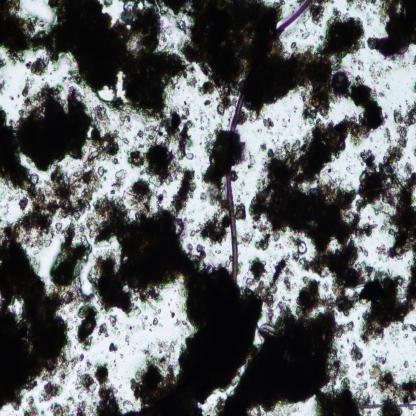Background material: (249, 115, 373, 313), (0, 78, 120, 242), (131, 265, 260, 415), (88, 177, 214, 322), (33, 0, 188, 117), (218, 282, 341, 416), (0, 218, 88, 405), (242, 6, 366, 124), (163, 0, 285, 96), (354, 100, 416, 213), (360, 260, 416, 350), (130, 114, 198, 185), (200, 126, 247, 200), (330, 70, 387, 131), (377, 172, 416, 260), (367, 0, 416, 60), (368, 354, 416, 415), (74, 362, 124, 416), (0, 0, 37, 65), (310, 378, 368, 415), (74, 299, 98, 350), (196, 210, 230, 246), (169, 169, 197, 212), (241, 222, 272, 250), (268, 257, 294, 290), (308, 0, 333, 26), (245, 258, 268, 284), (40, 380, 65, 403), (48, 396, 76, 416), (289, 233, 308, 261), (350, 344, 365, 378), (24, 57, 48, 76), (108, 168, 127, 188), (22, 395, 39, 415), (20, 76, 35, 98), (345, 0, 370, 10), (235, 204, 246, 222), (97, 322, 109, 338), (203, 96, 213, 114), (107, 342, 120, 353), (0, 78, 7, 96), (342, 327, 357, 334), (0, 57, 7, 70), (269, 121, 278, 130), (413, 79, 416, 94)
Diatom: (258, 323, 278, 340)
Microfibre: (225, 0, 312, 283)
